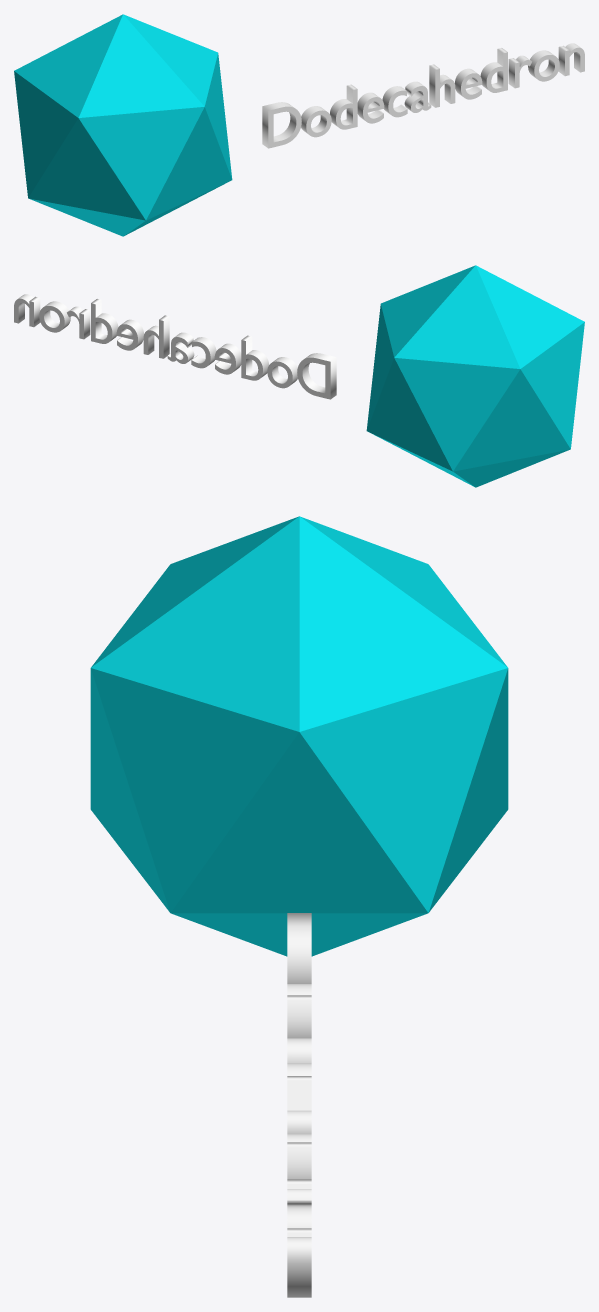
3 views of the same model, one above another, from view 1: azimuth 30°, elevation 25°; view 2: azimuth 150°, elevation 25°; view 3: azimuth 270°, elevation 25° (orthographic). The views are drawn at different scales.
Visible parts, largest first — view 1: Model_7_Dodecahedron; view 2: Model_7_Dodecahedron; view 3: Model_7_Dodecahedron.
Part boxes in pixels (x1,y1,x2,y2): Model_7_Dodecahedron: (14, 14, 584, 236); Model_7_Dodecahedron: (14, 265, 584, 487); Model_7_Dodecahedron: (90, 516, 508, 1297).
Size of the model in its own units: 5.21 by 2 by 1.7.
